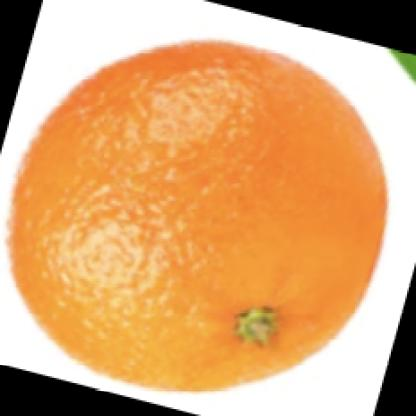fresh: (14, 41, 388, 390)
